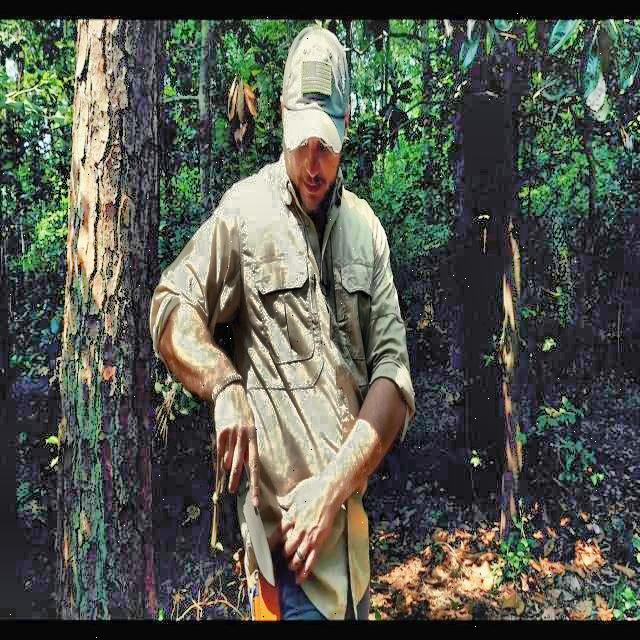knife: (236, 464, 274, 588)
